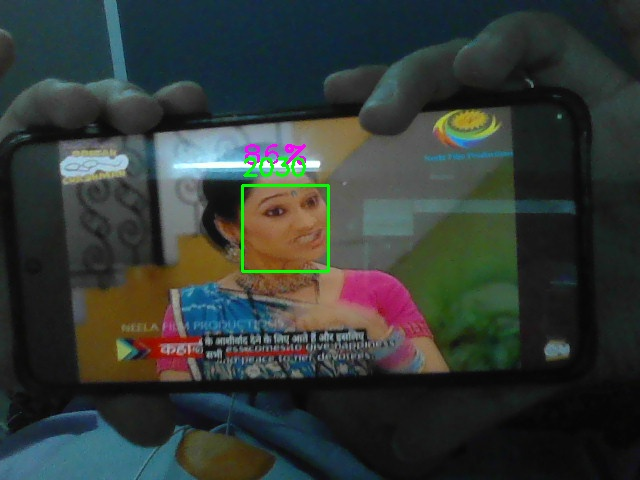fake: (242, 185, 329, 272)
